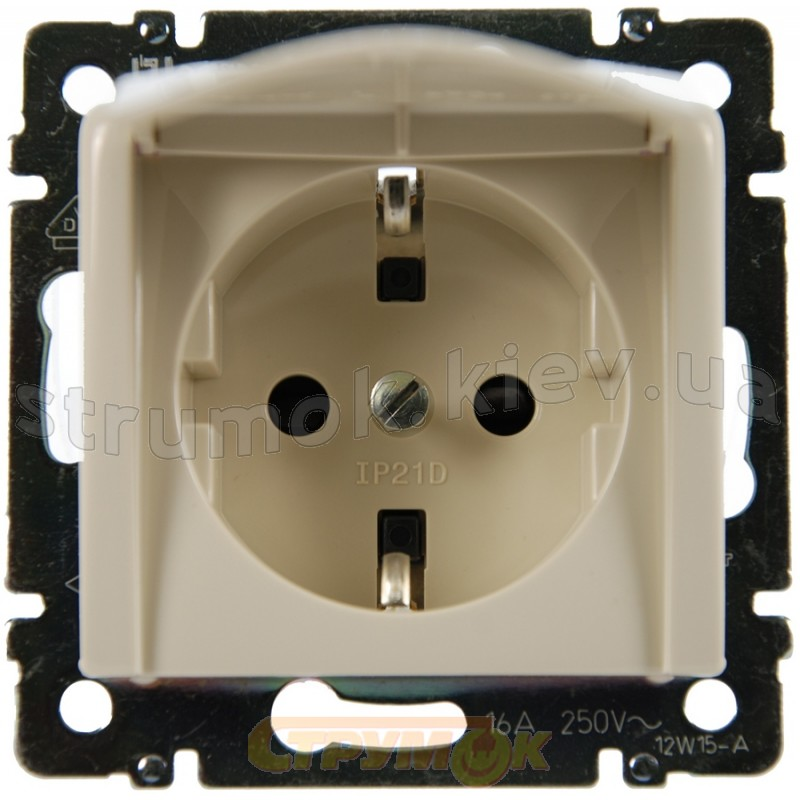raccoon: (169, 155, 633, 623)
